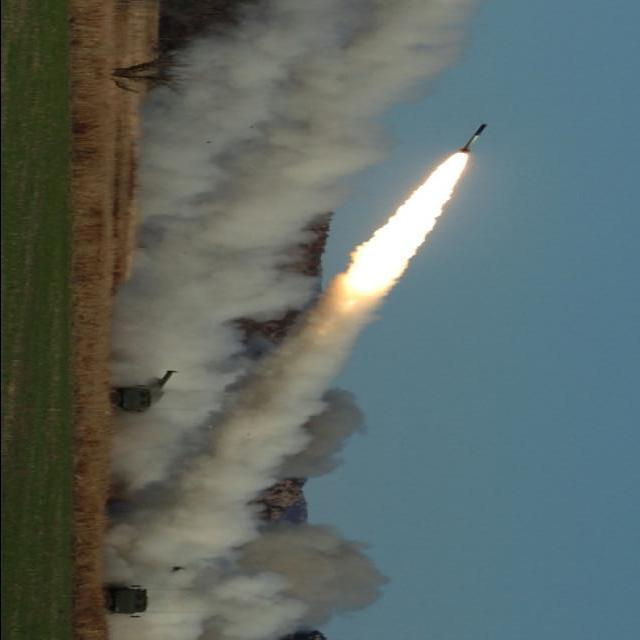missile: (451, 119, 493, 161)
